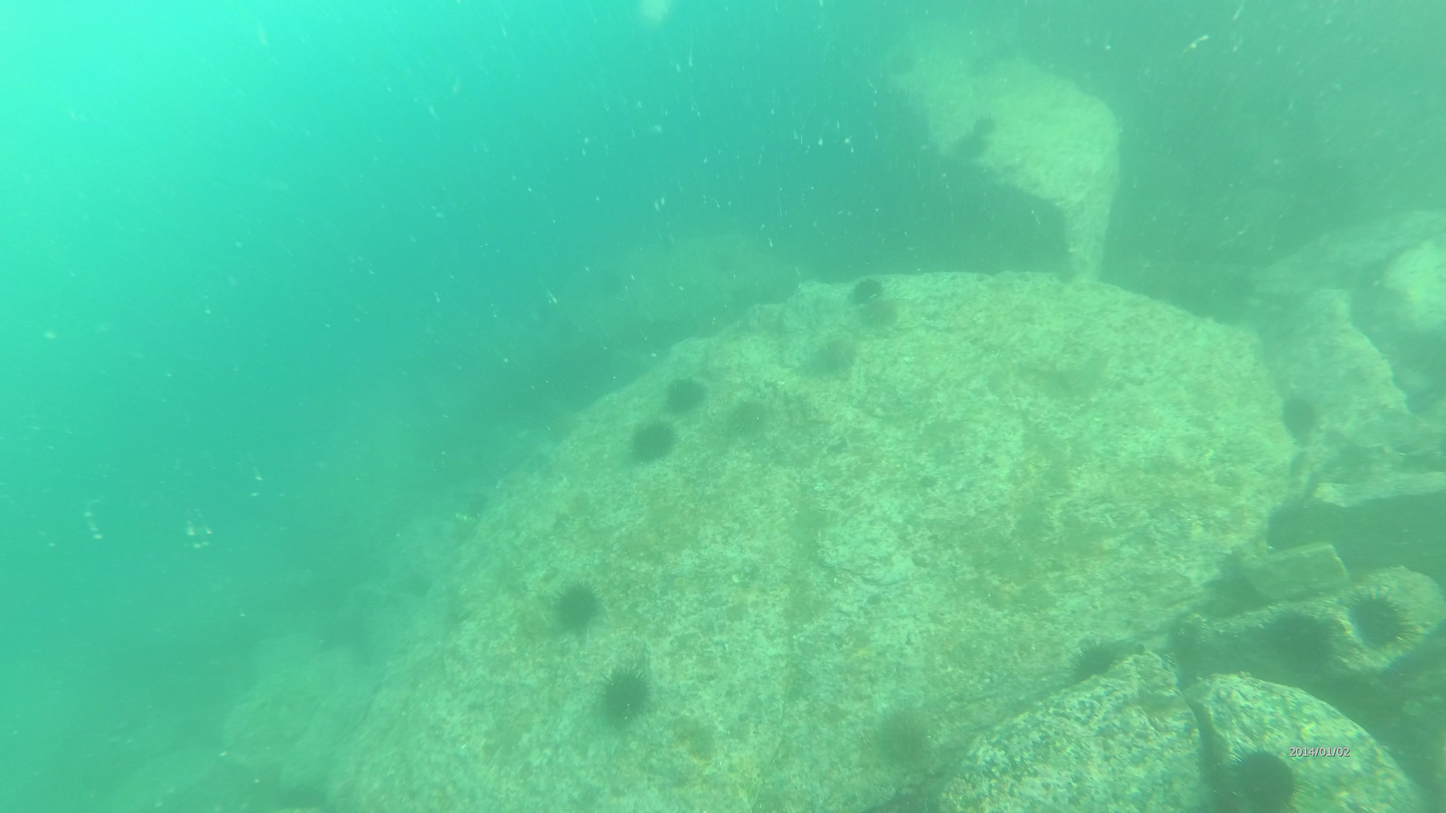starfish: (1257, 611, 1341, 679), (1343, 583, 1419, 658), (1226, 742, 1304, 813), (591, 661, 655, 728), (1063, 633, 1124, 690), (871, 709, 933, 765), (552, 579, 605, 638), (631, 414, 683, 471), (1274, 387, 1322, 445), (662, 368, 710, 418), (854, 296, 906, 336), (726, 400, 768, 441), (851, 274, 891, 307), (880, 46, 919, 75), (966, 110, 1002, 134), (964, 51, 997, 77), (950, 137, 984, 160)
